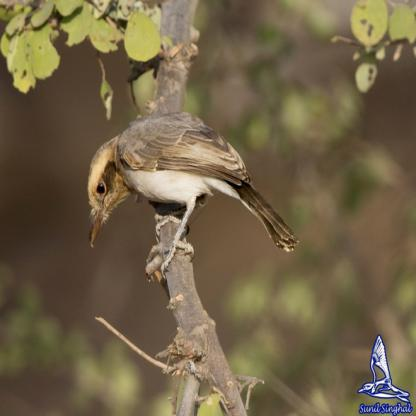Burung: (87, 111, 299, 253)
